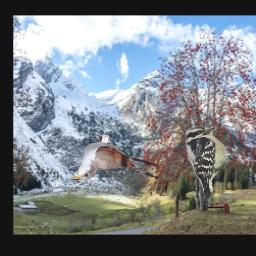Cuckoo: (72, 134, 158, 181)
Woodpecker: (186, 124, 241, 201)
